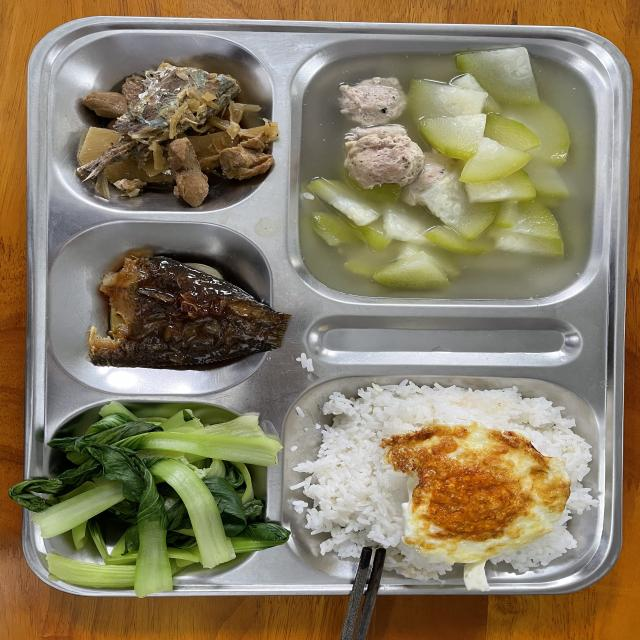ca kho: (88, 255, 291, 368)
canh bau: (301, 44, 595, 299)
com: (291, 380, 599, 581)
rau: (10, 403, 289, 597)
trung chien: (381, 422, 570, 562)
